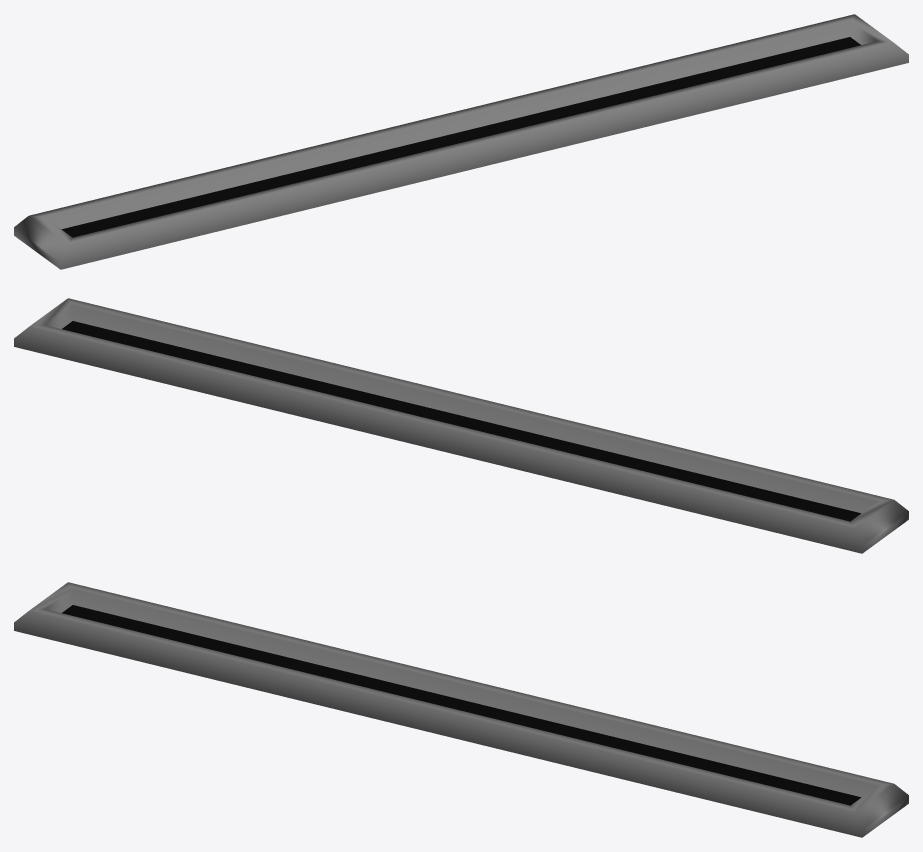
File: SMLStoneSpikeRailTrap.fbx
3 views of the same model, one above another, from view 1: azimuth 30°, elevation 25°; view 2: azimuth 150°, elevation 25°; view 3: azimuth 330°, elevation 25° (orthographic).
Parts seen in each view (by area): view 1: SMLStoneSpikeRailTrap; view 2: SMLStoneSpikeRailTrap; view 3: SMLStoneSpikeRailTrap.
Boxes of the visible parts, x1,y1,x2,y2 form: SMLStoneSpikeRailTrap: (14, 14, 908, 269); SMLStoneSpikeRailTrap: (14, 298, 908, 553); SMLStoneSpikeRailTrap: (14, 582, 908, 837).
Size of the model in its own units: 120 by 2.68 by 11.46.
